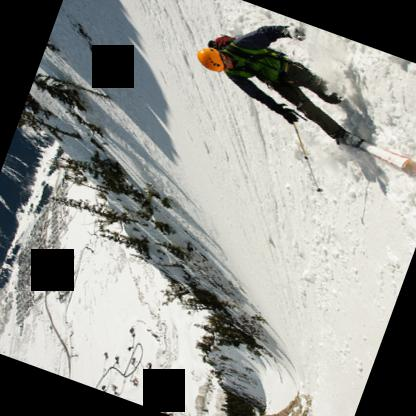backpack: (207, 33, 236, 49)
